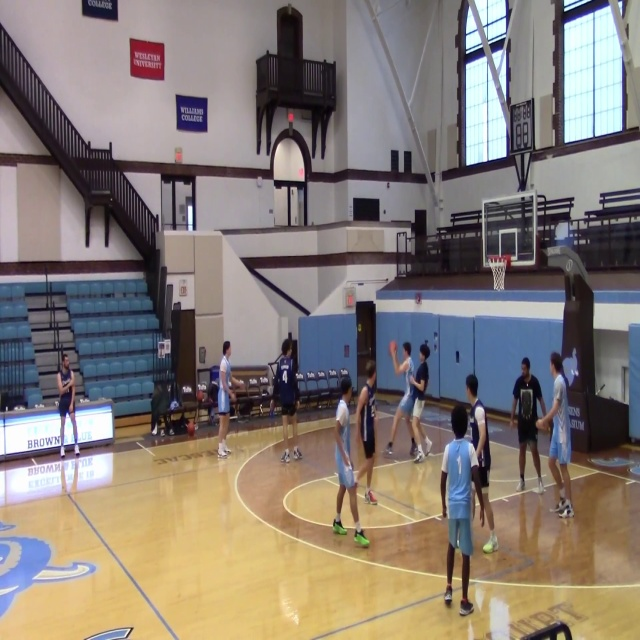Basketball: (535, 418, 550, 432)
